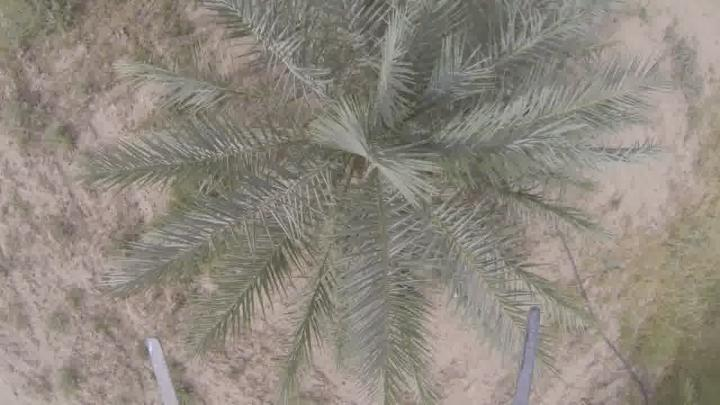Date-Palm-Crown: (224, 0, 490, 272)
